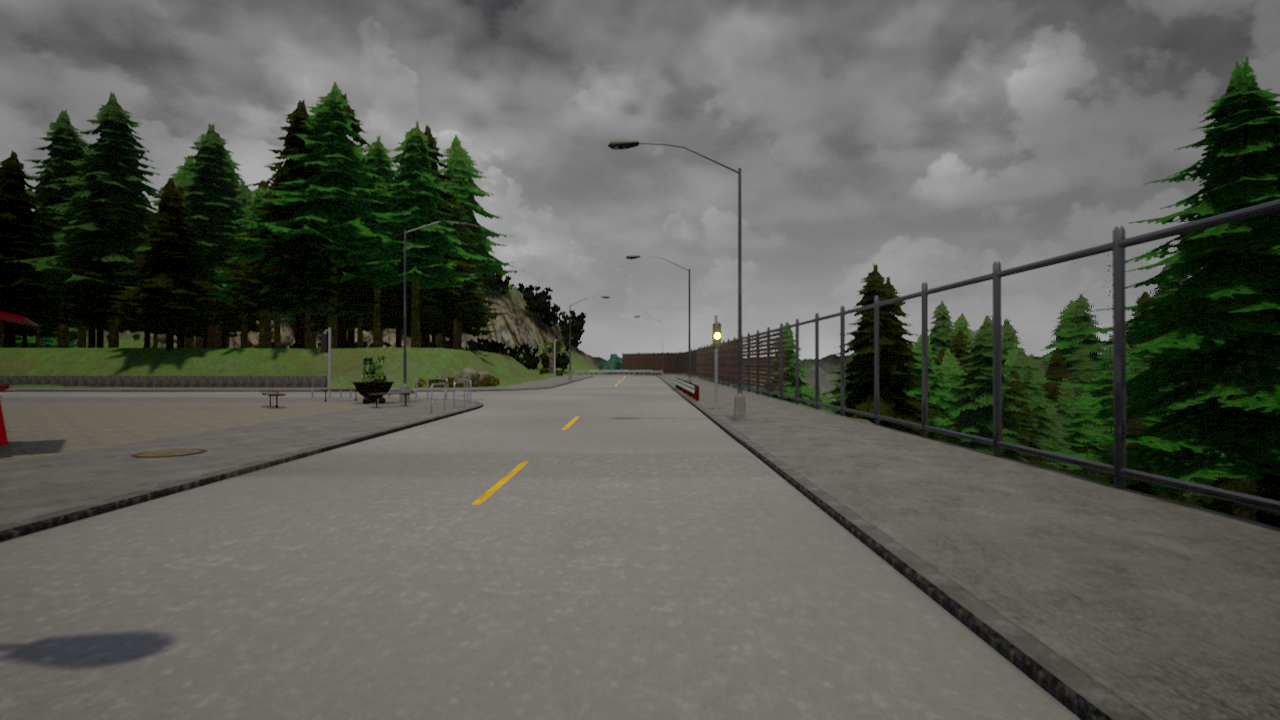yellow: (711, 322, 722, 348)
